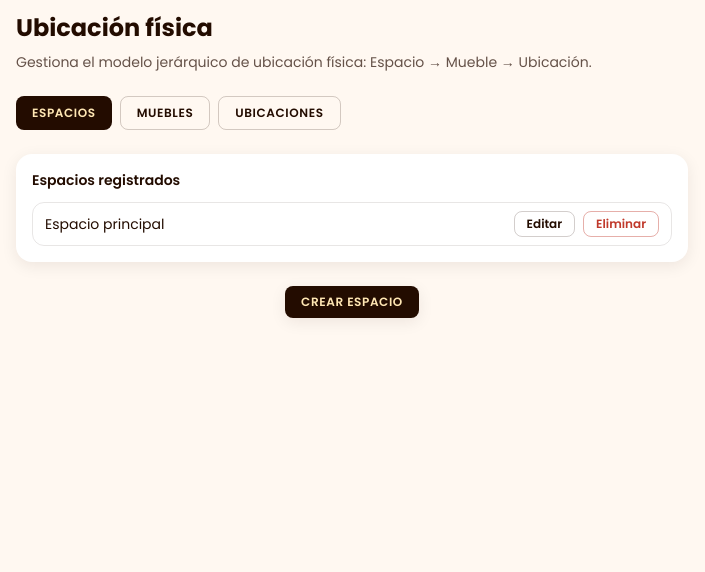
GestionUbicacionFisicaComponent › pestaña Espacios › crea un espacio nuevo y cierra el formulario
Click the button "Crear espacio" at (352,302), box [285,286,419,318]
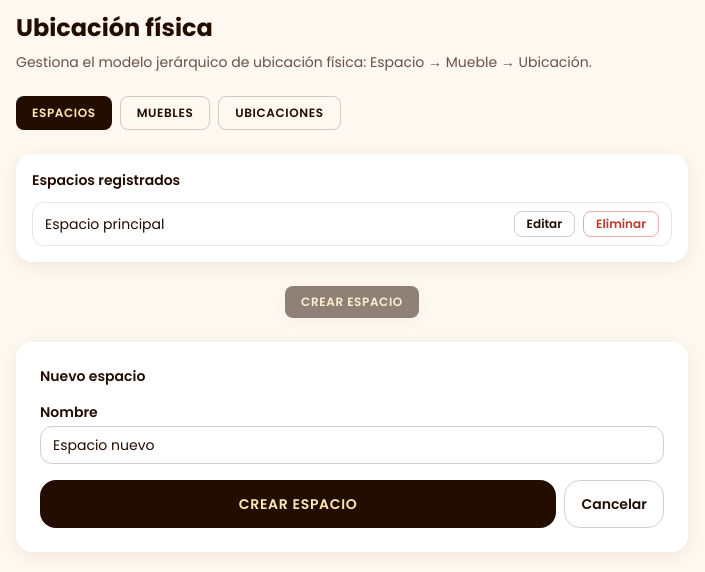
Submit the form, box [16,342,688,552]
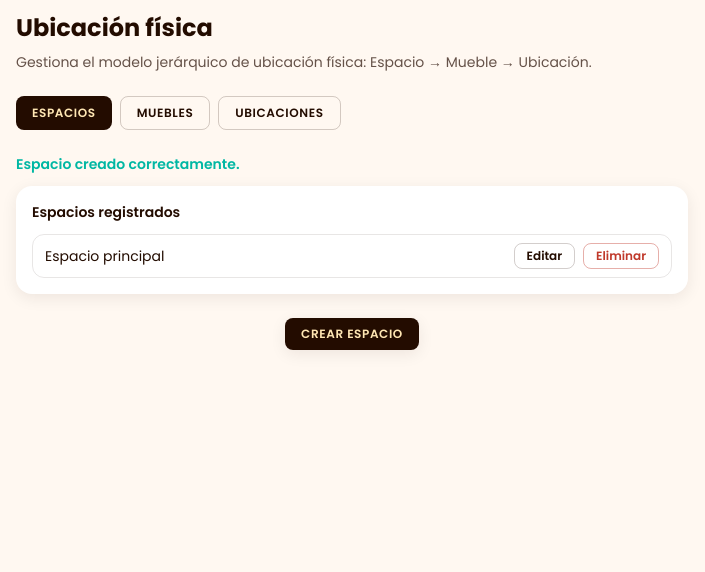
Expected: the text "Espacio creado correctamente." is shown, [16,154,240,174]
Expected: the form is gone
